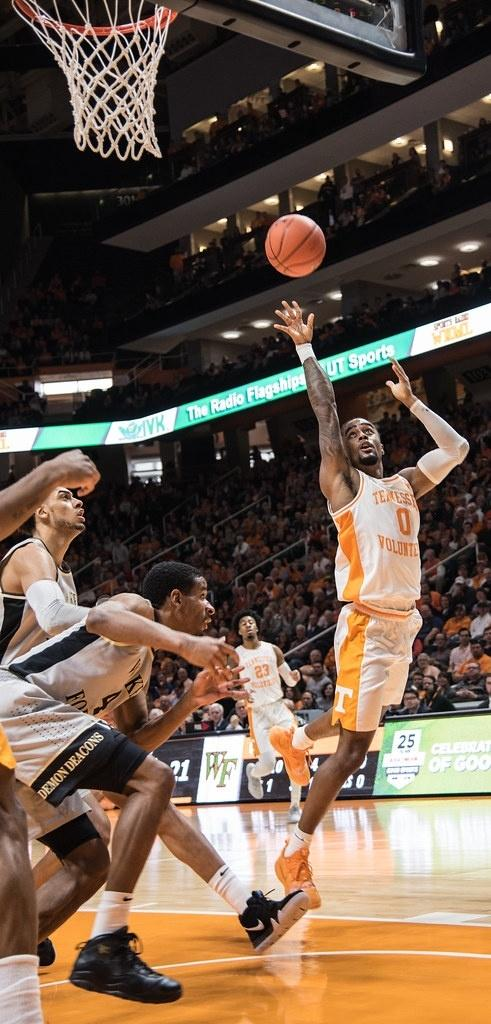basketball-player: (0, 440, 310, 956), (266, 297, 470, 911), (0, 548, 250, 1010), (222, 580, 318, 841)
